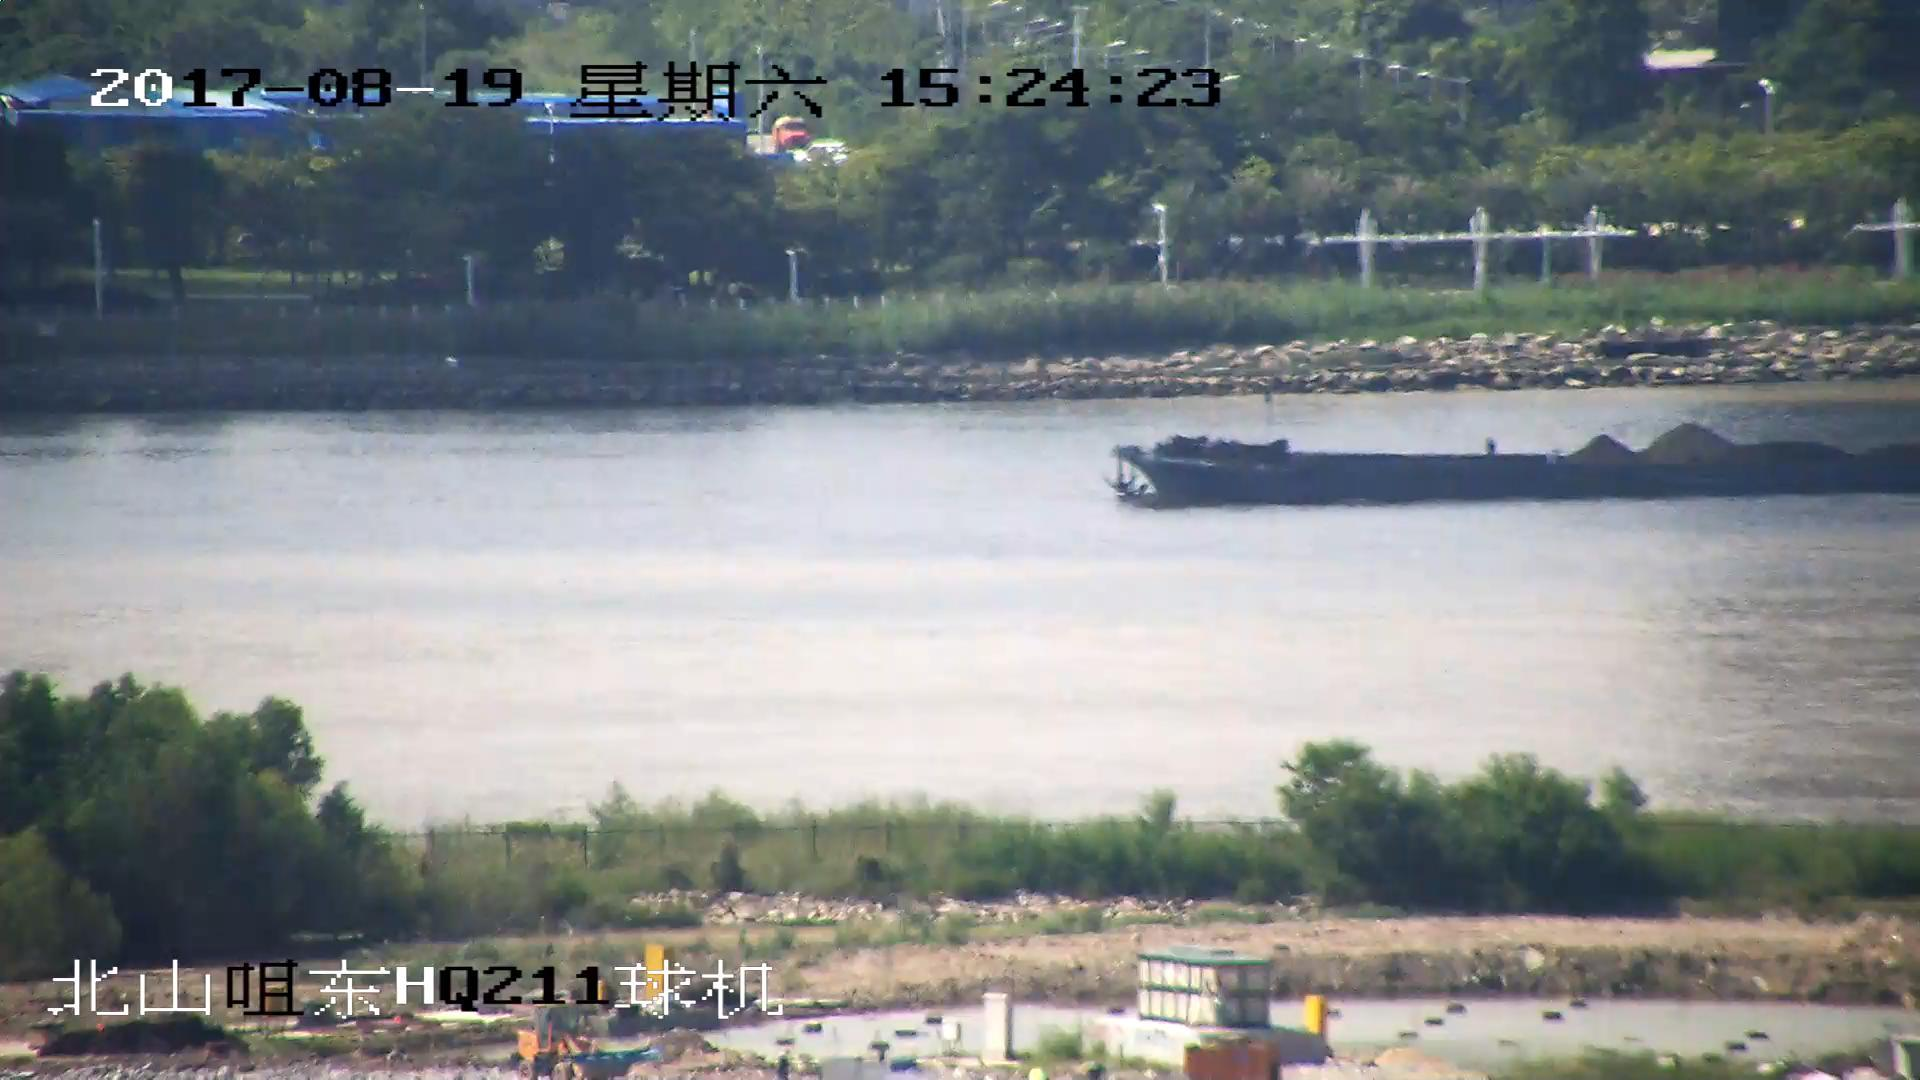Ship: (1105, 411, 1920, 513)
